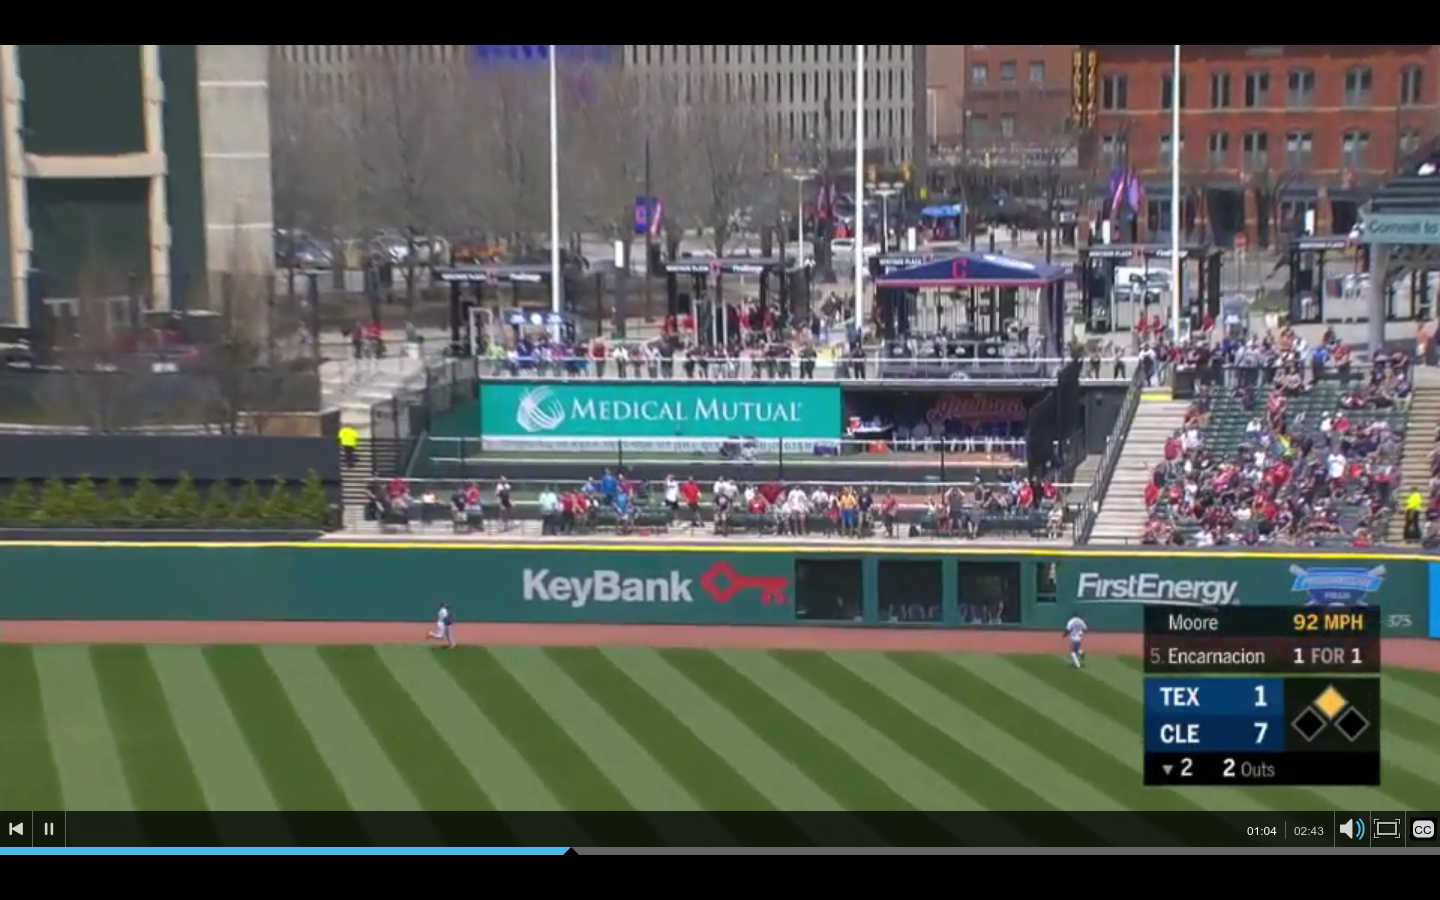baseball player: (1059, 608, 1096, 674), (422, 597, 462, 657)
